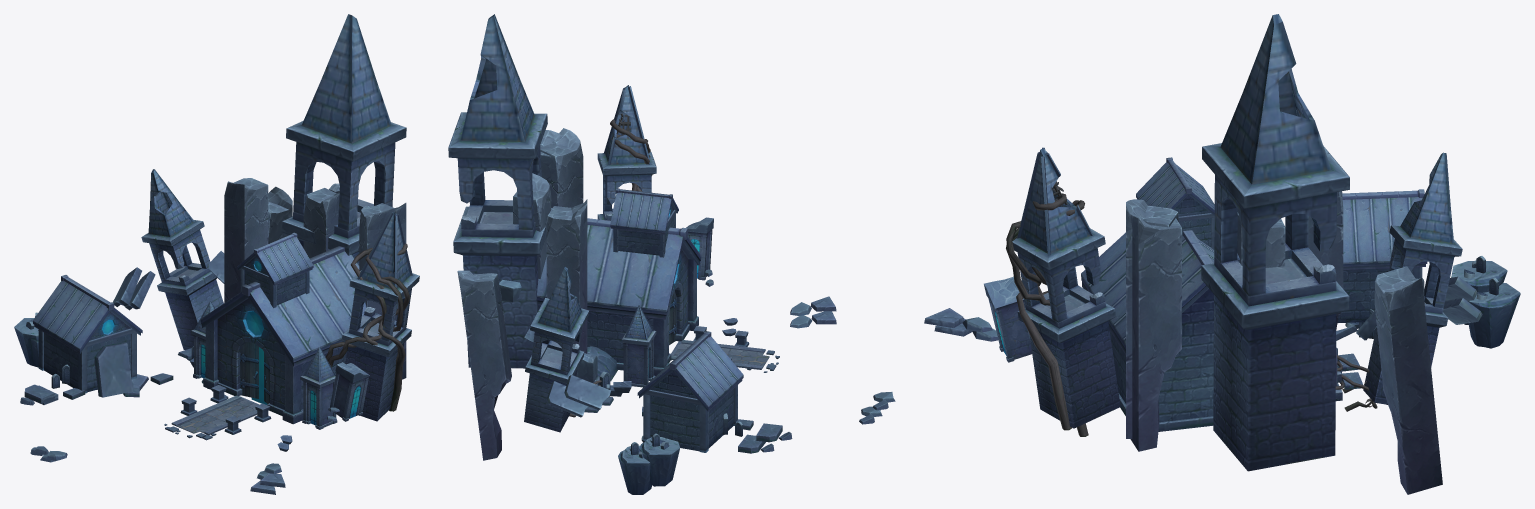
The model's file is Area01_1.fbx.
3 views of the same model, side by side, from view 1: azimuth 30°, elevation 25°; view 2: azimuth 150°, elevation 25°; view 3: azimuth 270°, elevation 25° (orthographic). The views are drawn at different scales.
Parts seen in each view (by area): view 1: Area01_1; view 2: Area01_1; view 3: Area01_1.
Part boxes in pixels (x1,y1,x2,y2): Area01_1: (14, 14, 419, 494); Area01_1: (448, 14, 895, 494); Area01_1: (924, 14, 1520, 494).
Bounding box in the file's own units: 3166 × 2927 × 3111.
1 material, 1 textured.
